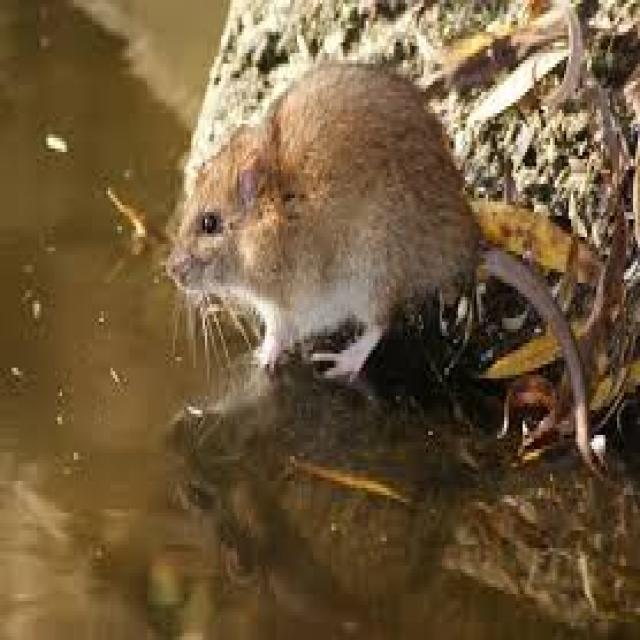rat: (161, 57, 484, 386)
